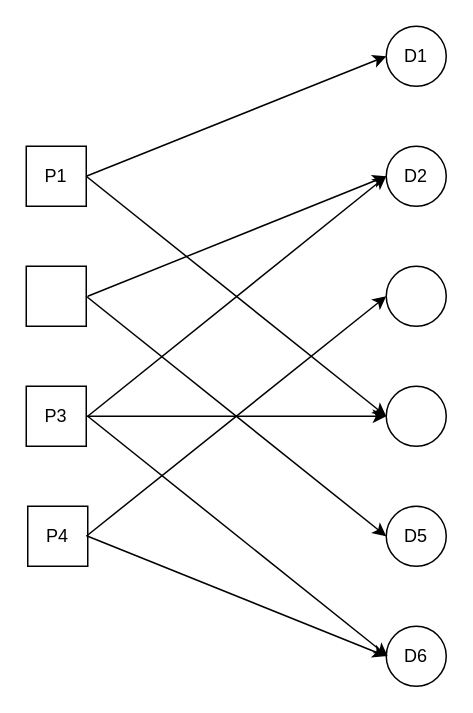
Image size: 473x713. Some labels were removed from this diagram. The centre of each missing label's shape, as x and y in pixels:
"D3" belongs at point 415,295.
"D4" belongs at point 415,415.
"P2" belongs at point 55,295.
